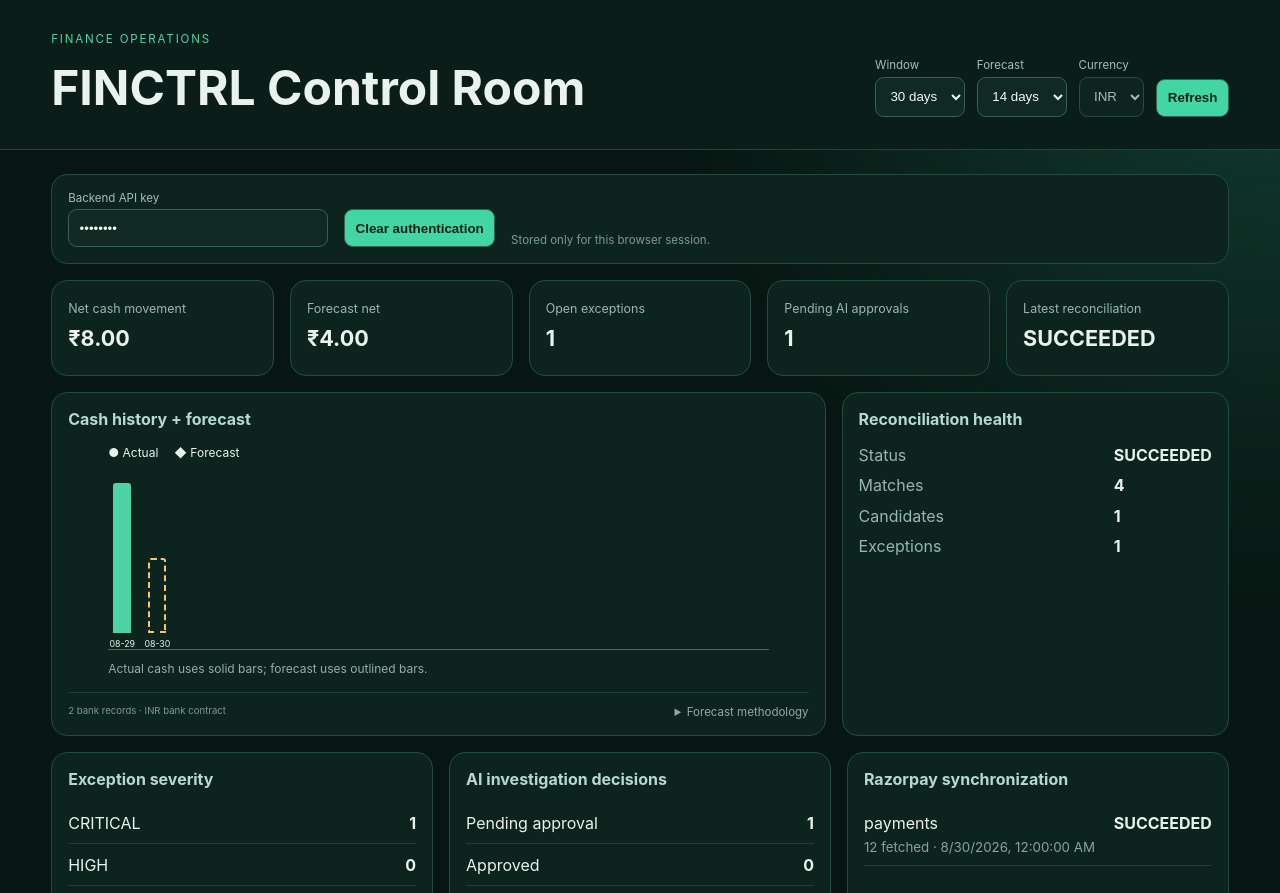
dashboard › removes the session credential when authentication is cleared
Check: the text "Net cash movement" is shown, box x1=68 y1=301 x2=186 y2=316
Click the button "Clear authentication". click: [420, 228]
box: x1=344 y1=209 x2=495 y2=247
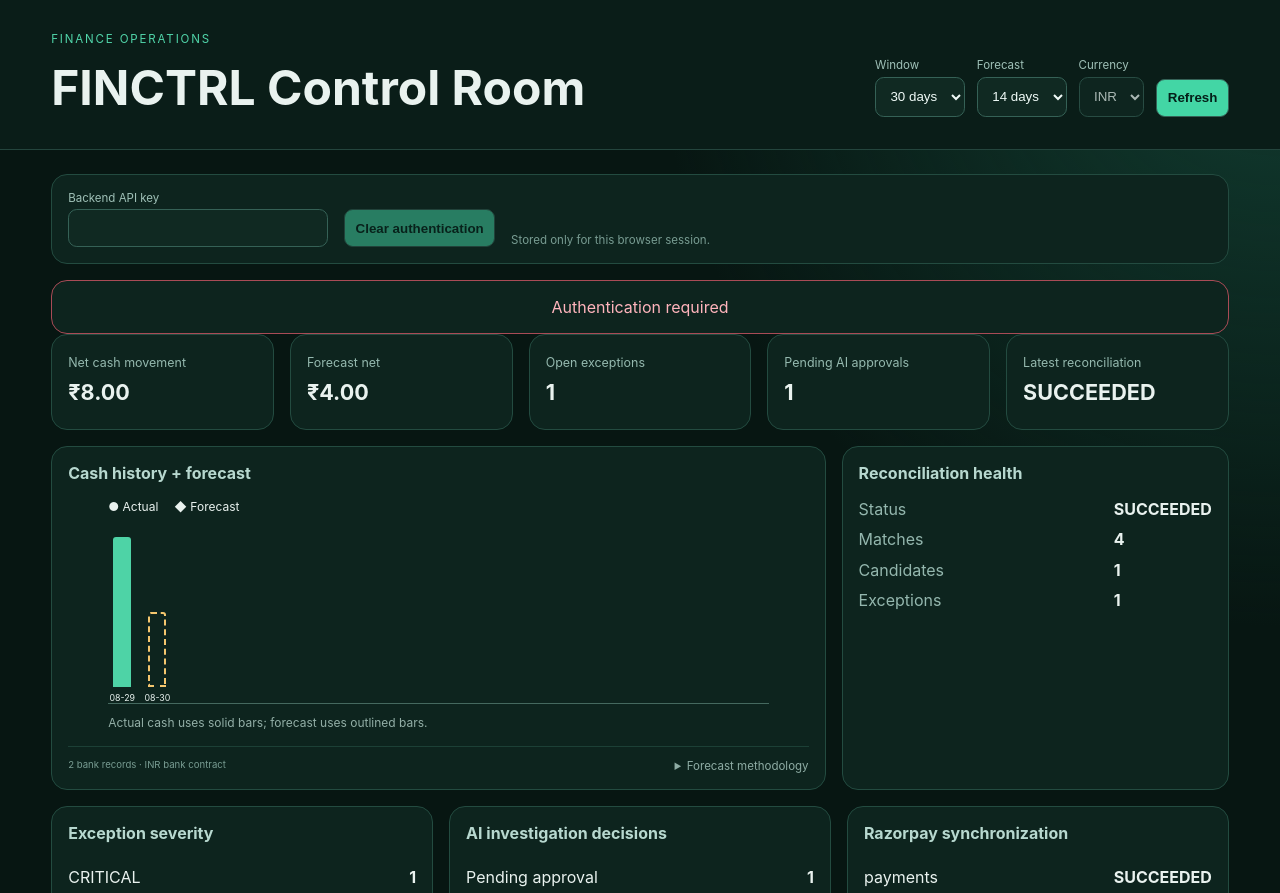
Check: the password field labelled "Backend API key" is empty, box x1=68 y1=209 x2=328 y2=247
